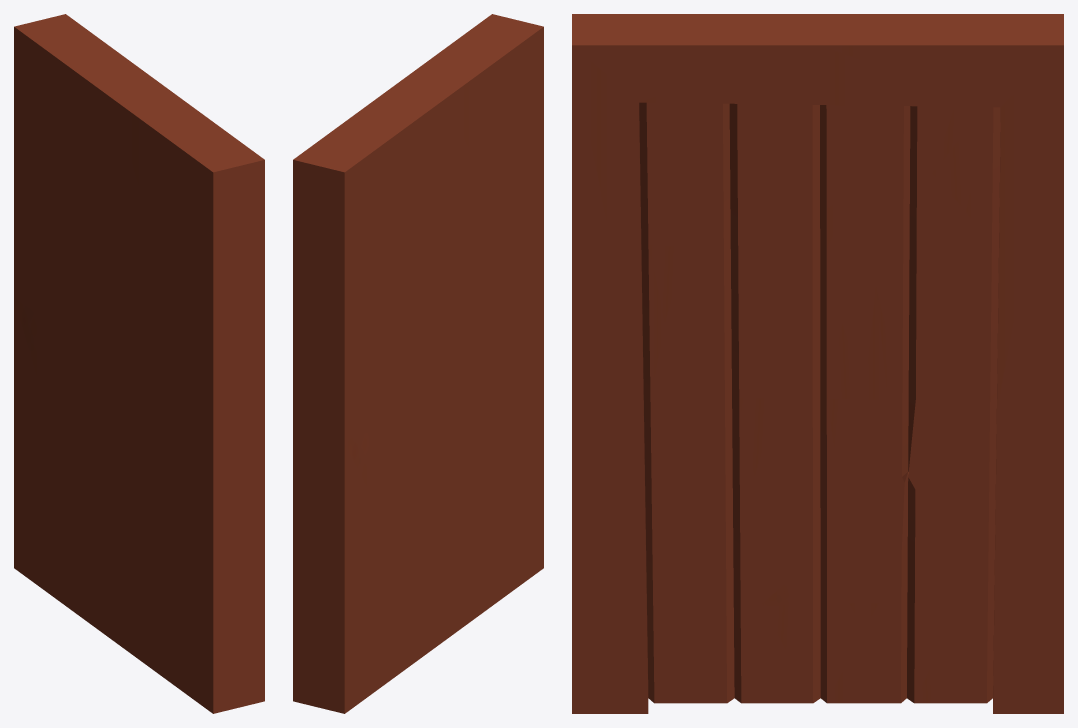
Rendered from Door.fbx.
3 renders of one model, left to right at view 1: azimuth 30°, elevation 25°; view 2: azimuth 150°, elevation 25°; view 3: azimuth 270°, elevation 25°, orthographic. The views are drawn at different scales.
Visible parts, largest first — view 1: pCube28; view 2: pCube28; view 3: pCube28.
Boxes of the visible parts, x1=… form: pCube28: x1=14, y1=14, x2=264, y2=713; pCube28: x1=293, y1=14, x2=543, y2=713; pCube28: x1=572, y1=14, x2=1063, y2=713.
Size of the model in its own units: 30 by 300 by 200.
